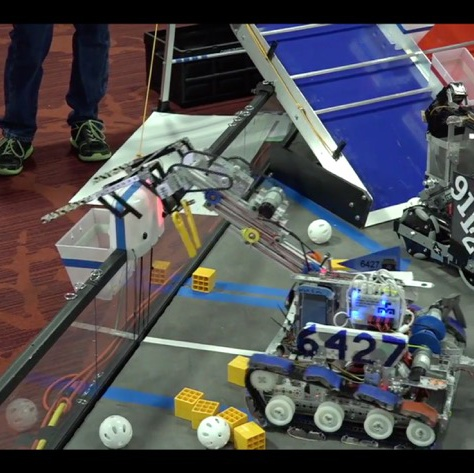robot: (240, 239, 473, 450), (388, 78, 473, 291)
